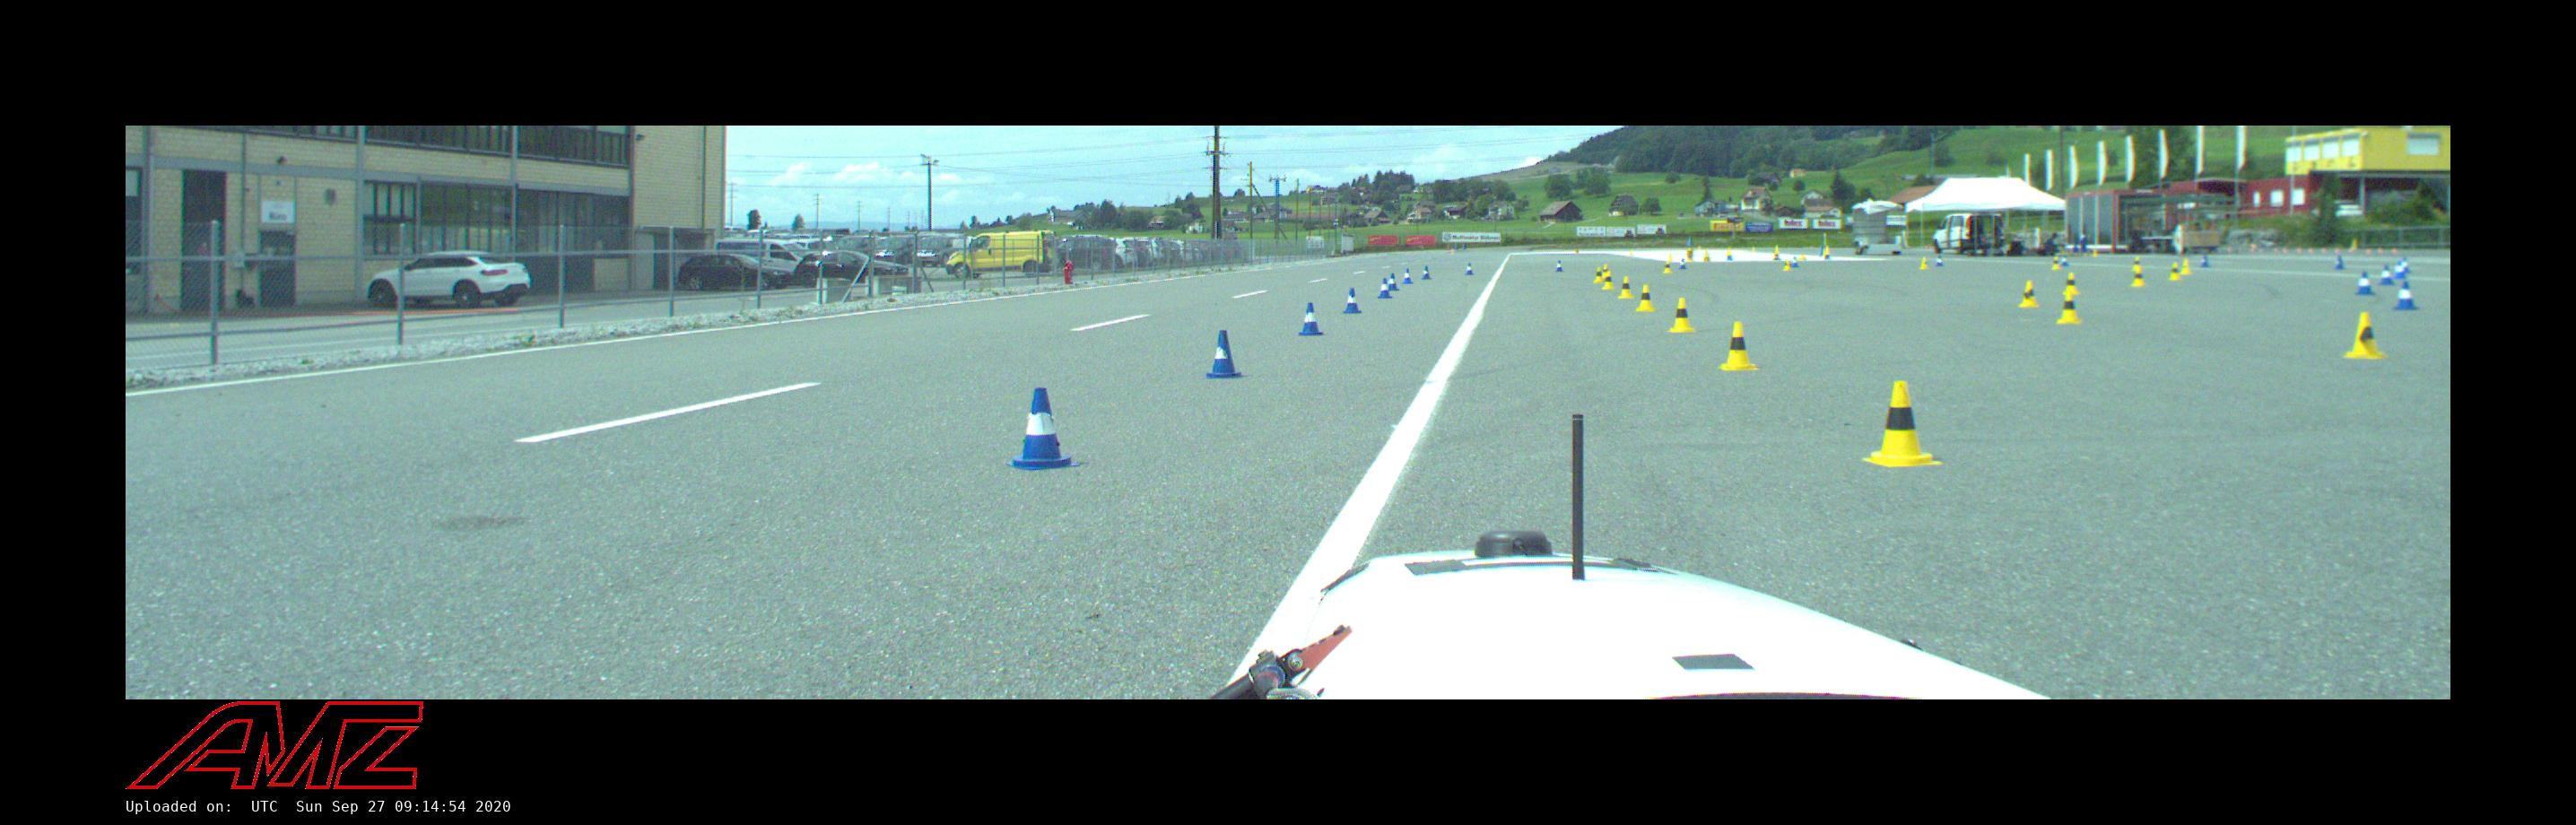blue_cone: (1004, 388, 1078, 470), (1206, 330, 1242, 378), (1298, 302, 1324, 335), (2394, 281, 2418, 309), (1342, 288, 1362, 312), (2356, 271, 2376, 294), (2377, 265, 2394, 284), (1378, 278, 1391, 297), (2394, 261, 2405, 279), (1388, 273, 1398, 291), (1403, 268, 1413, 283), (1421, 266, 1431, 279), (1465, 263, 1474, 274), (1679, 258, 1687, 270), (1556, 260, 1562, 271)
yellow_cone: (1863, 381, 1942, 467), (1718, 320, 1760, 370), (2344, 312, 2384, 358), (1667, 297, 1695, 332), (2057, 293, 2081, 322), (1635, 284, 1656, 311), (2019, 281, 2040, 307), (2063, 273, 2080, 294), (1618, 276, 1633, 297), (1602, 271, 1615, 289), (2131, 268, 2144, 286), (2169, 263, 2180, 279), (1594, 268, 1603, 283), (1663, 261, 1672, 273), (1602, 265, 1607, 276)
